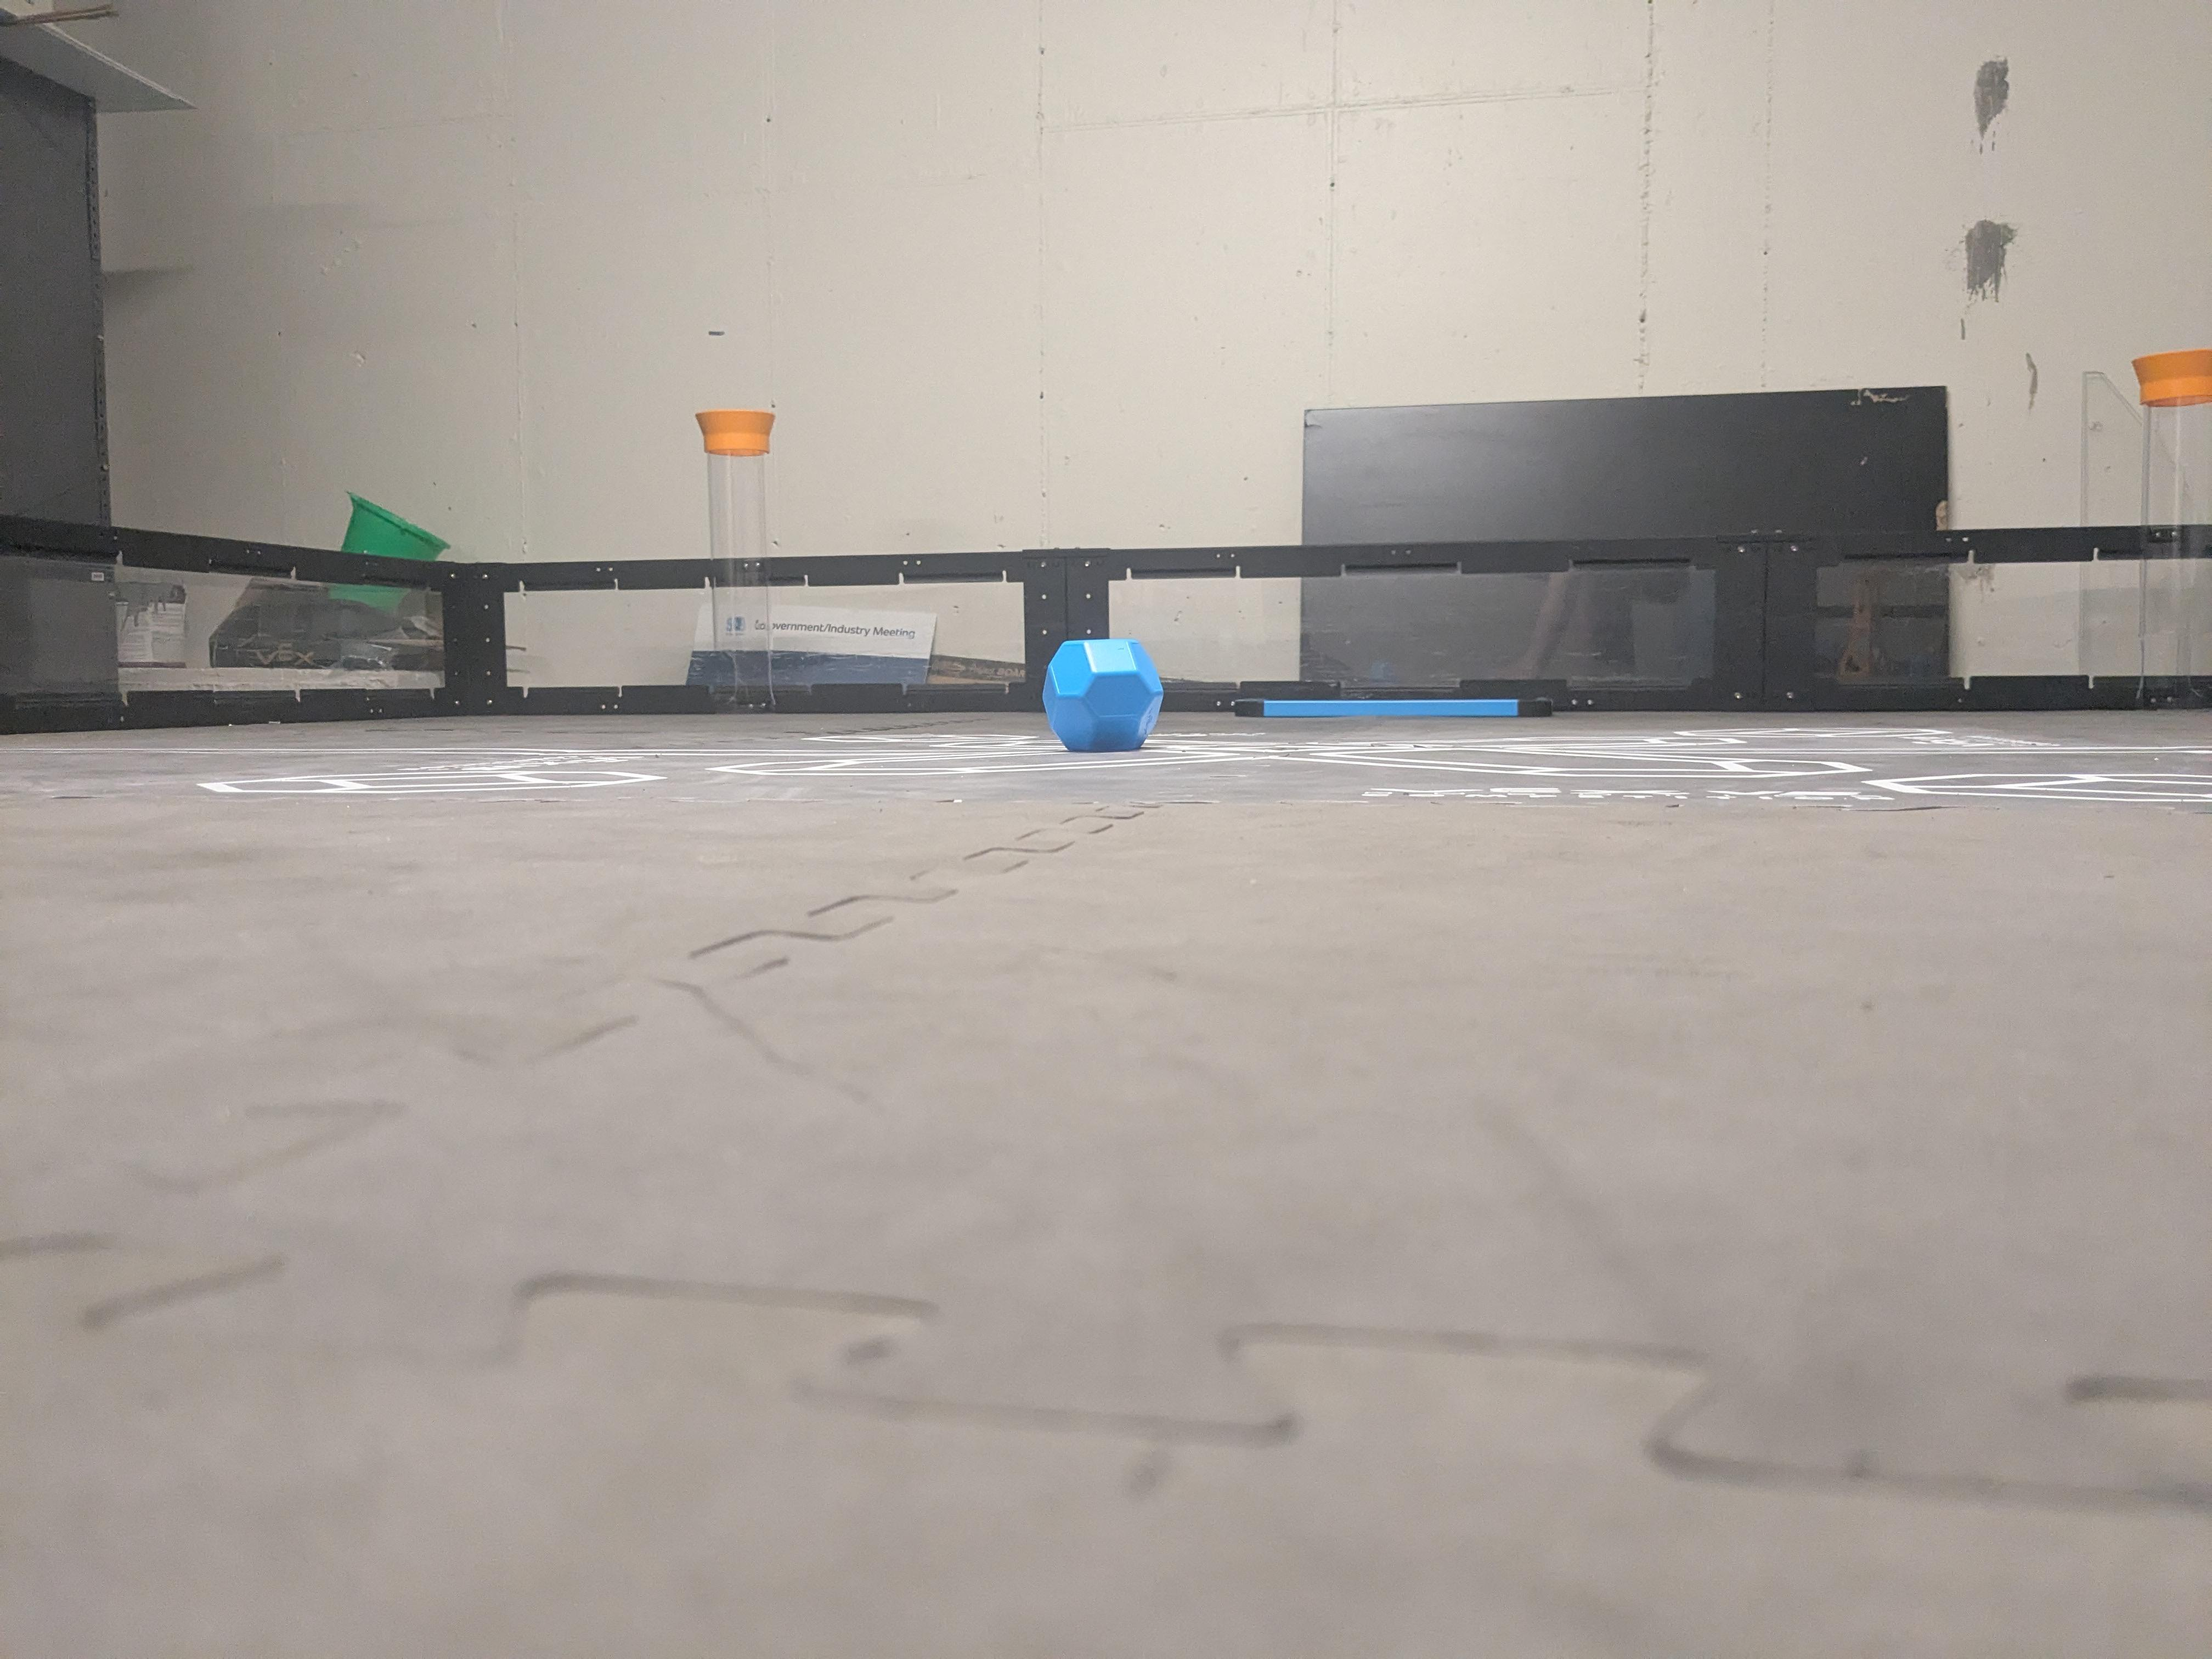Vex-Pieces-BLUE: (1043, 640, 1160, 746)
